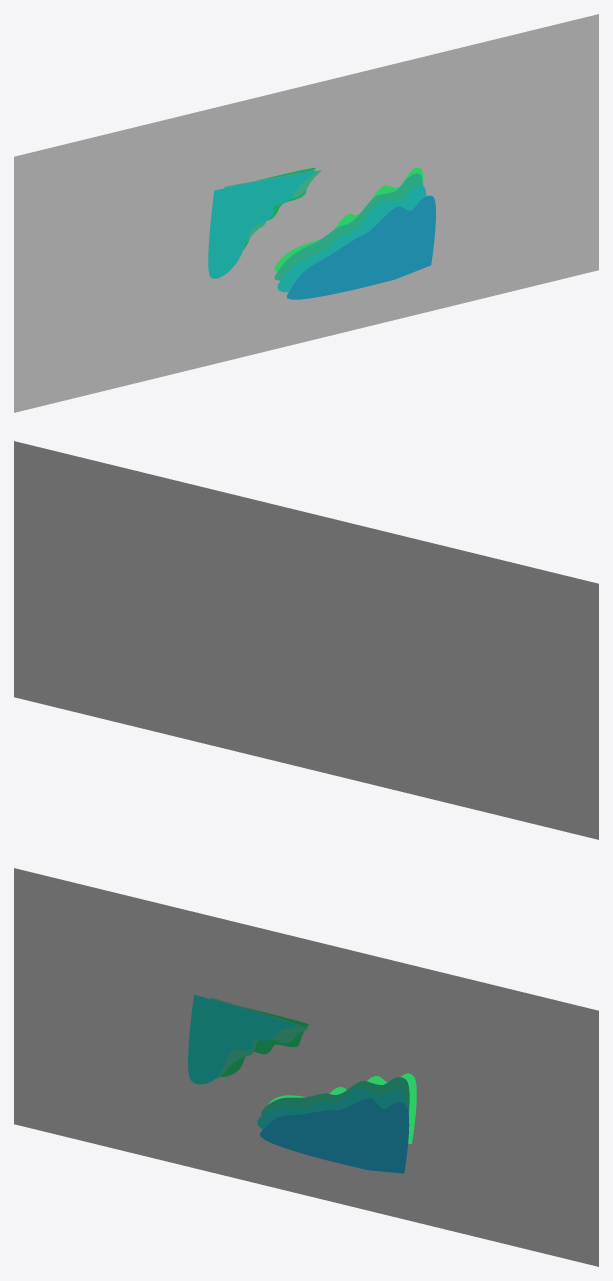
File: WebsiteBackground2.glb
3 renders of one model, top to bottom at view 1: azimuth 30°, elevation 25°; view 2: azimuth 150°, elevation 25°; view 3: azimuth 330°, elevation 25°, orthographic.
Parts seen in each view (by area): view 1: Curve, Curve_005, Curve_002, Curve_004, Curve_003, Right_1; view 2: Curve; view 3: Curve, Curve_005, Curve_002, Curve_004, Curve_003, Curve_001, Right_1, Left_1.
Boxes of the visible parts, x1,y1,x2,y2 form: Curve: (14,14,598,412); Curve_005: (287,195,435,299); Curve_002: (208,171,315,278); Curve_004: (277,185,426,292); Curve_003: (274,173,422,280); Right_1: (274,167,423,271); Curve: (14,441,598,839); Curve: (14,868,598,1266); Curve_005: (260,1098,409,1173); Curve_002: (188,994,295,1084); Curve_004: (257,1088,406,1129); Curve_003: (261,1077,409,1114); Curve_001: (211,997,307,1078); Right_1: (268,1073,416,1143); Left_1: (220,1007,308,1077).
Bounding box in the file's own units: 25.11 × 10.51 × 1.
